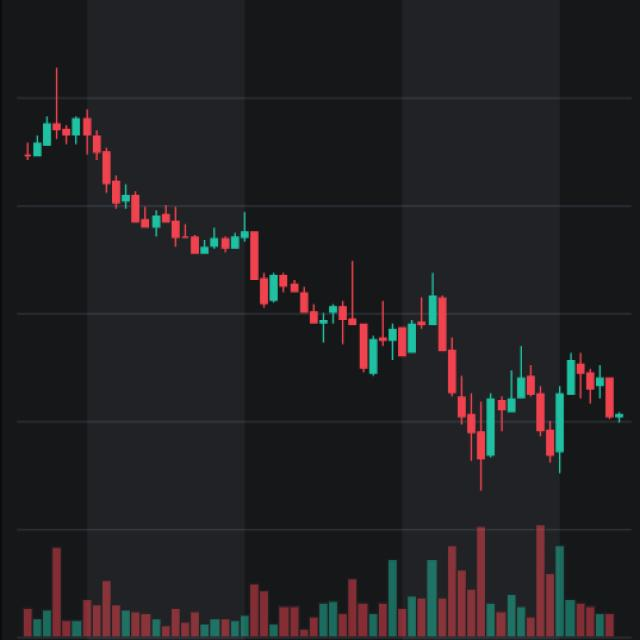Support-breakout: (29, 107, 381, 380)
